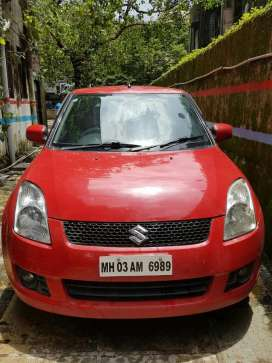license_plate: (99, 256, 173, 274)
